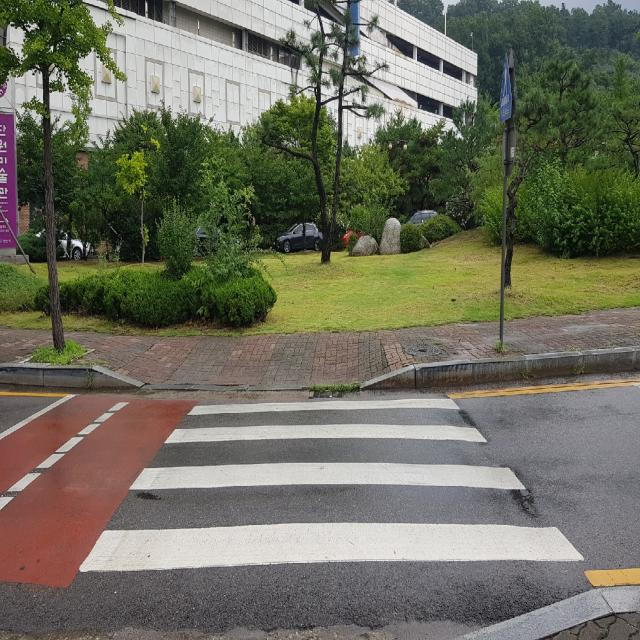횡단보도: (77, 395, 586, 576)
